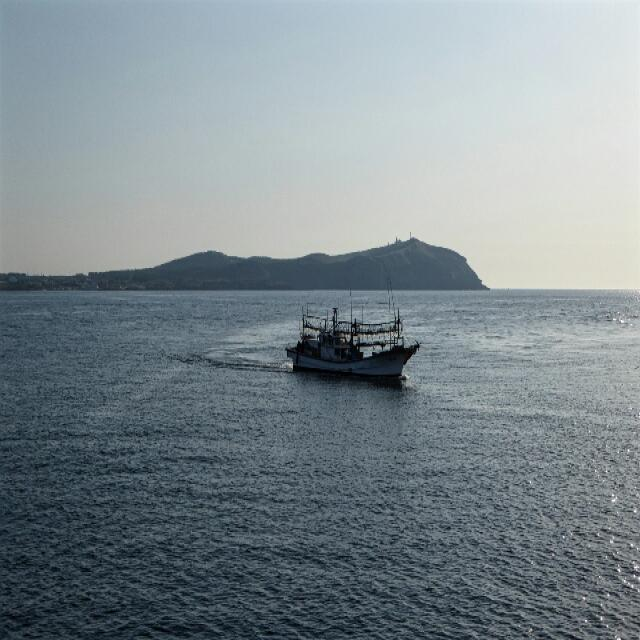fishing boat: (280, 302, 416, 384)
